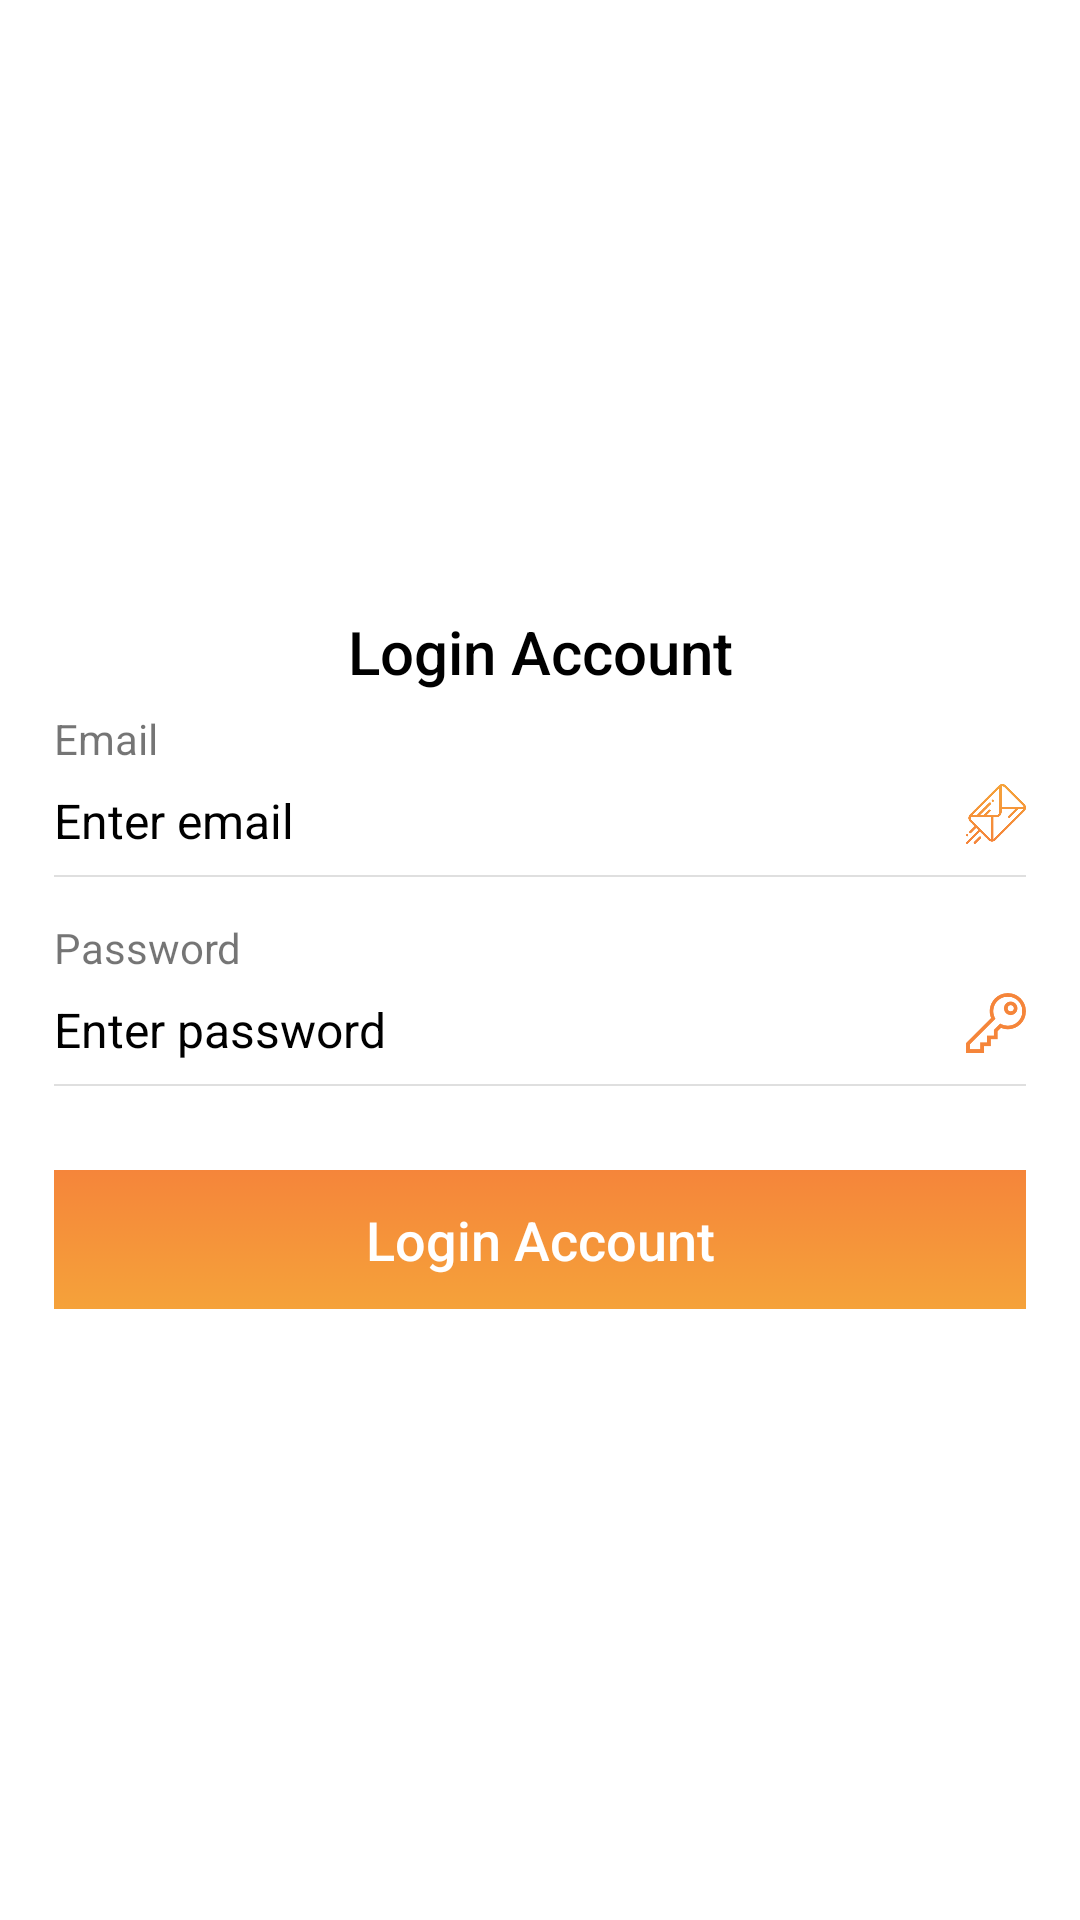

Point at icon controls on the screen. Image size 1080*1920, points as point (x, y).
key: point (996, 1023)
